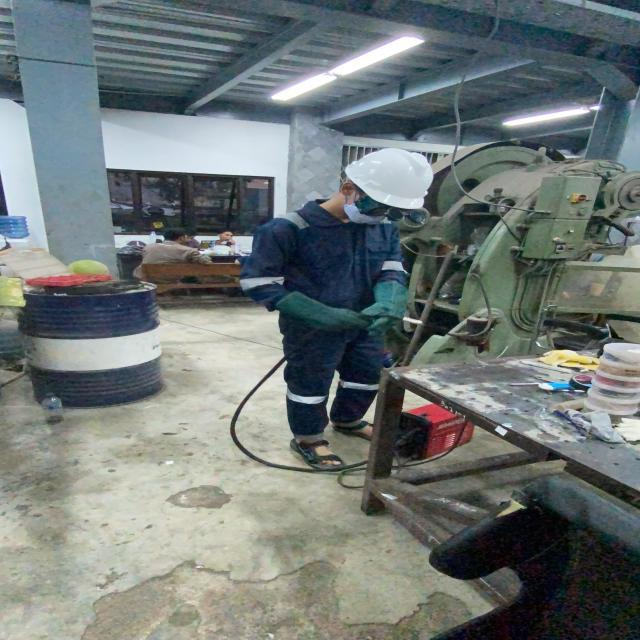glasses: (351, 190, 433, 227)
